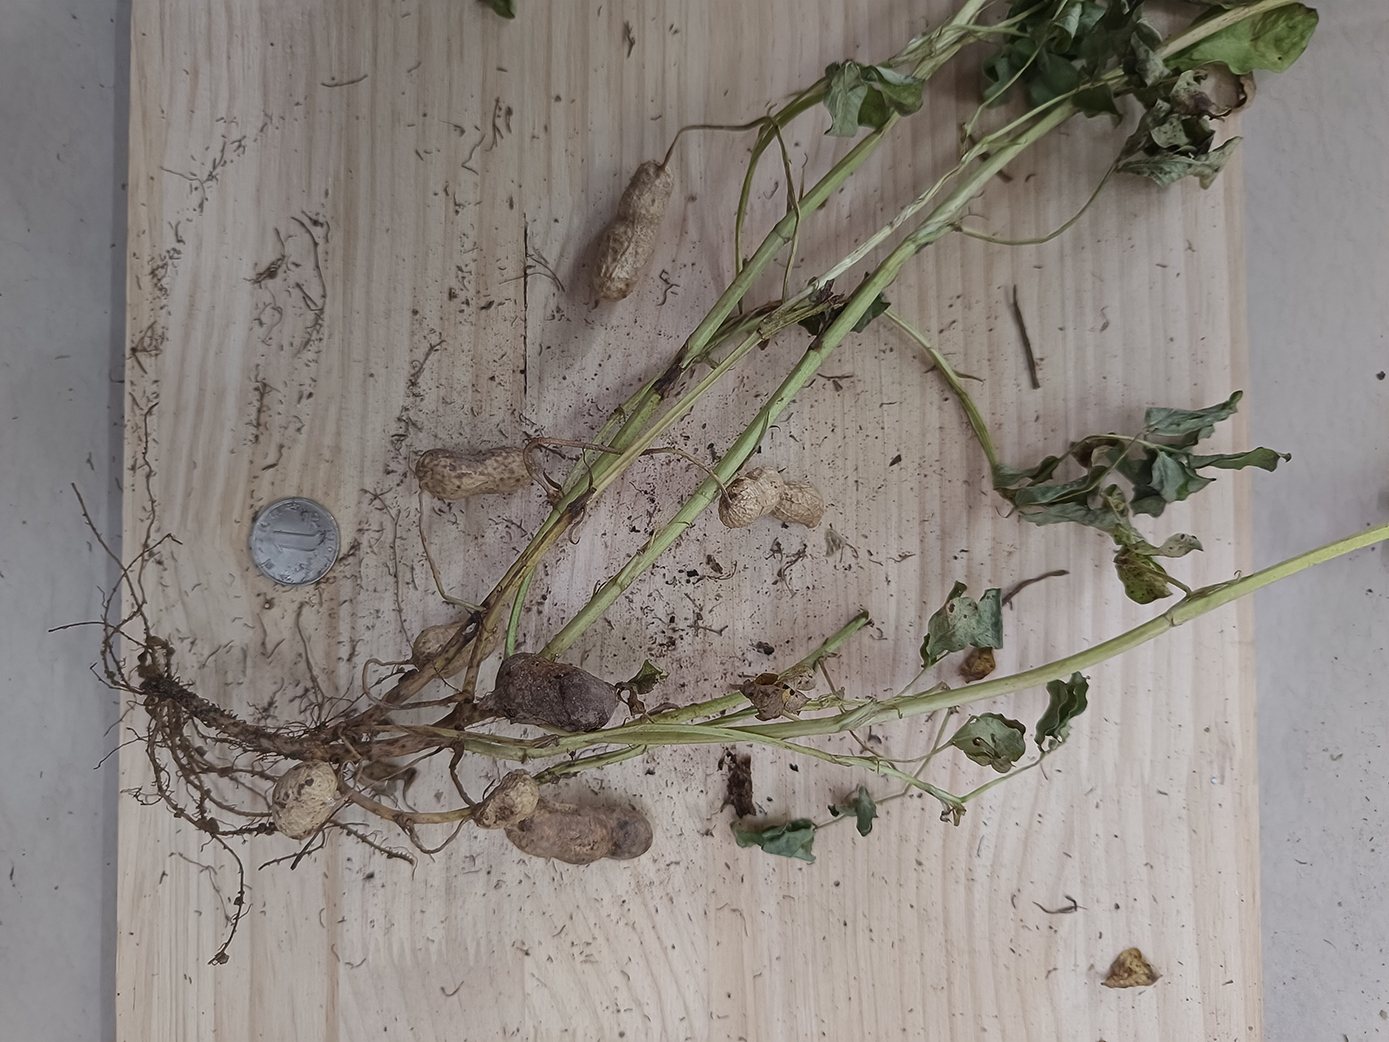h: (593, 160, 672, 302), (719, 466, 824, 530), (415, 445, 537, 498), (410, 617, 500, 676), (271, 761, 338, 840), (471, 771, 539, 829)
l: (497, 656, 621, 732), (505, 800, 653, 864)
